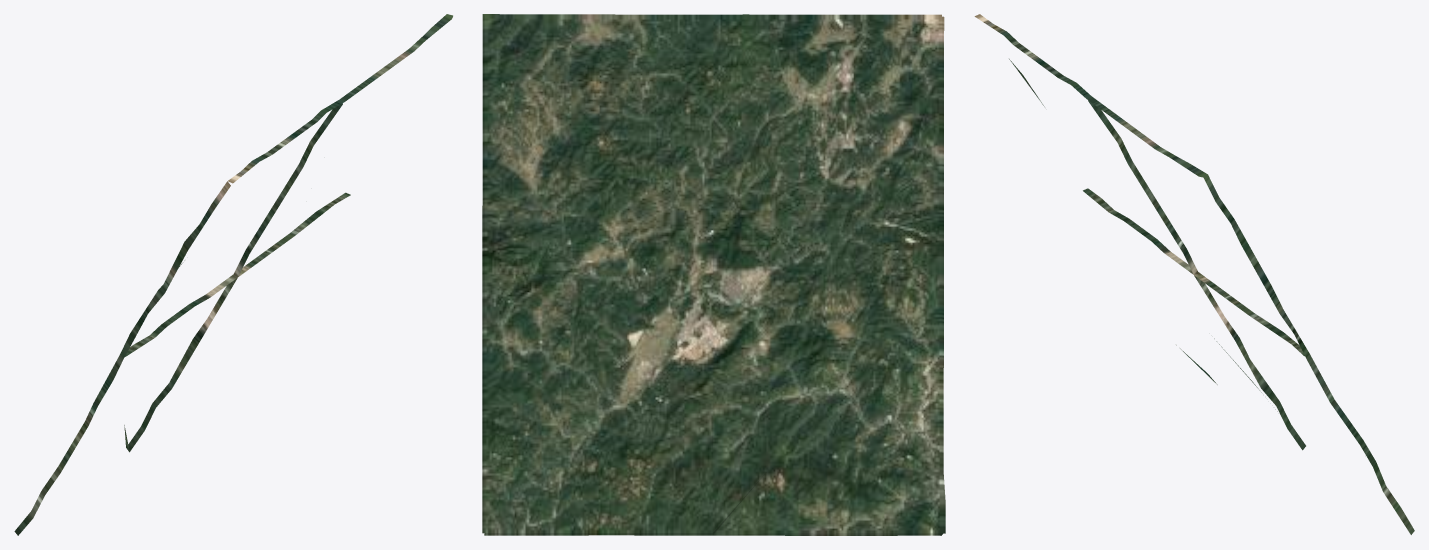
The picture shows the model from 3 angles, left to right: view 1: azimuth 30°, elevation 25°; view 2: azimuth 150°, elevation 25°; view 3: azimuth 270°, elevation 25°; orthographic projection. The views are drawn at different scales.
Bounding box in the file's own units: 79397 × 69988 × 67904.
1 material, 1 textured.
